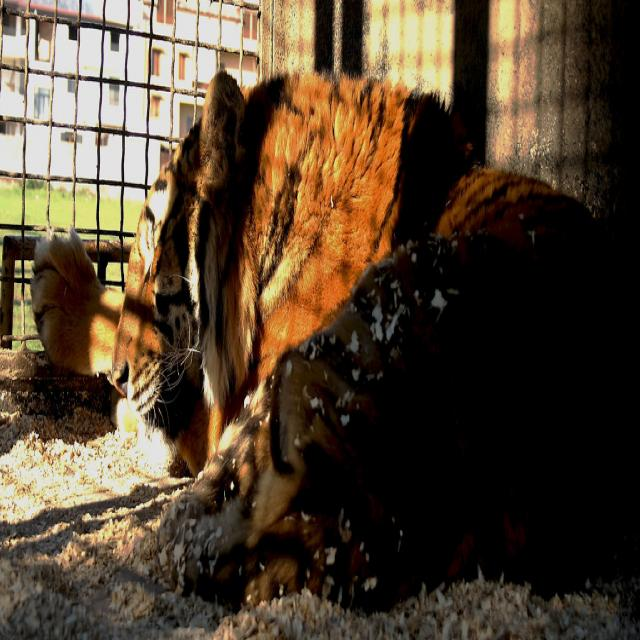Tiger: (26, 66, 602, 598)
